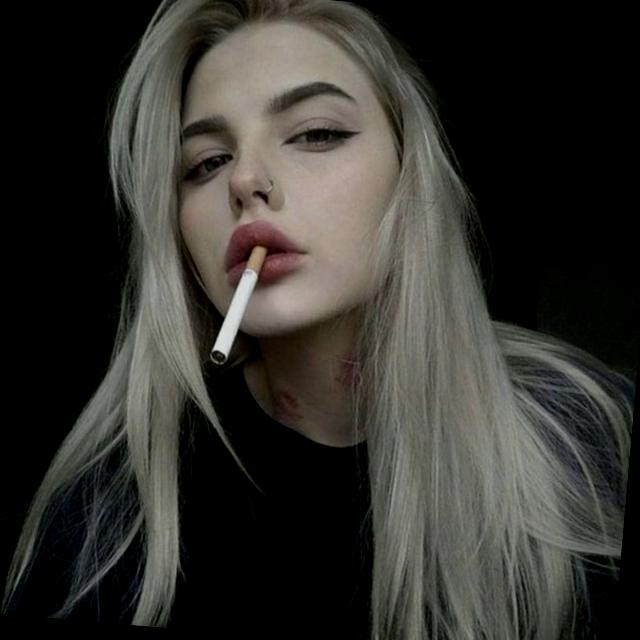smoke: (190, 216, 281, 398)
